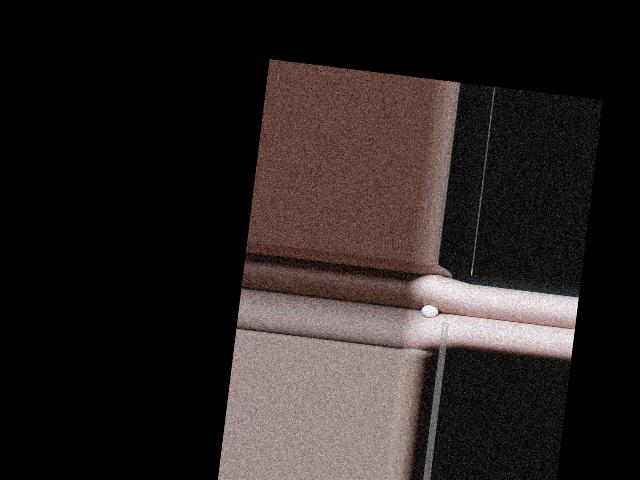egg: (421, 304, 439, 318)
